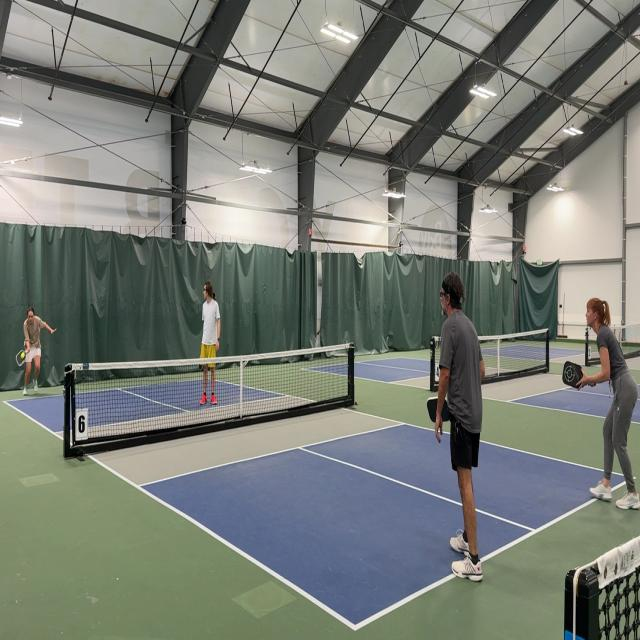ball: (20, 351, 25, 360)
